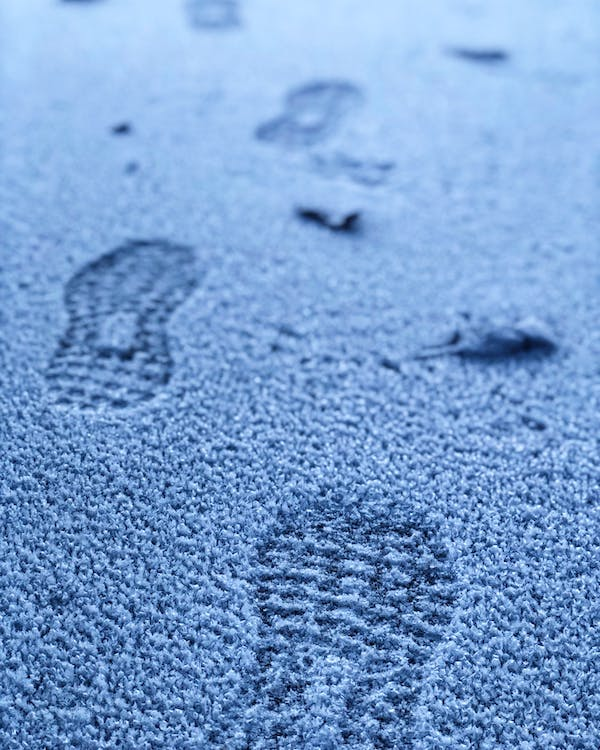human_footprint: (39, 0, 488, 731)
